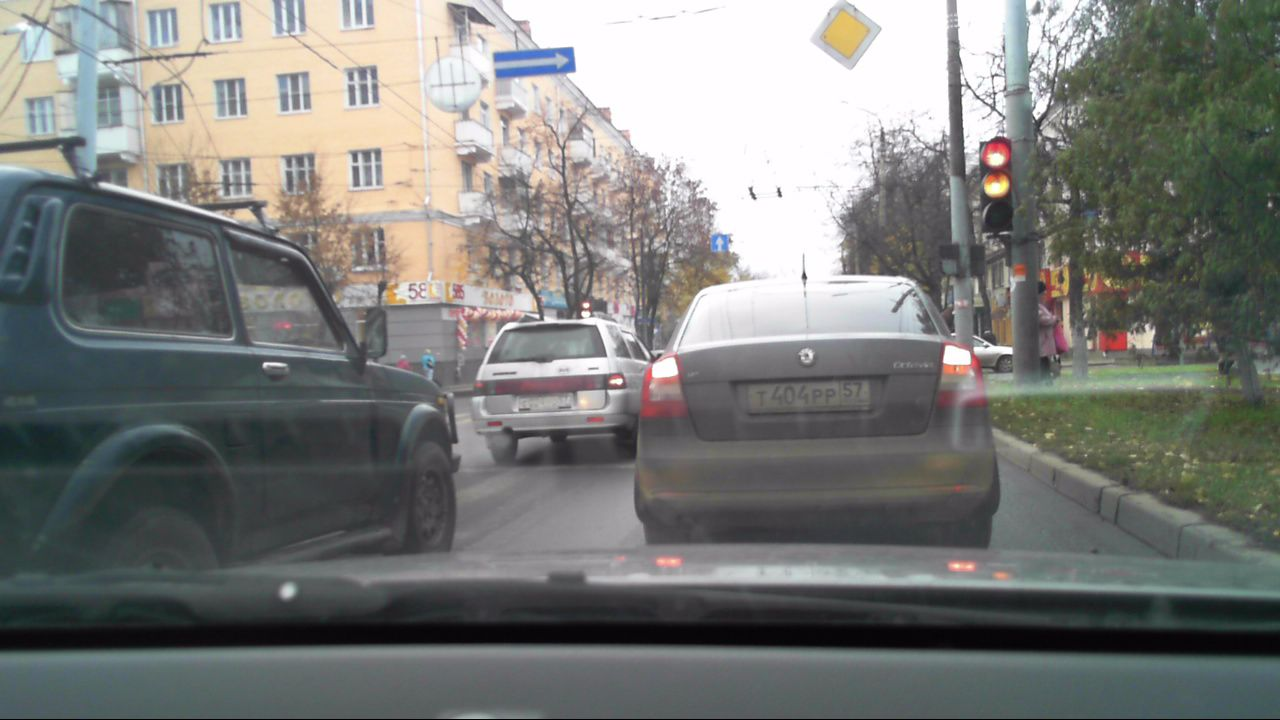One-Way Traffic: (492, 47, 574, 78)
